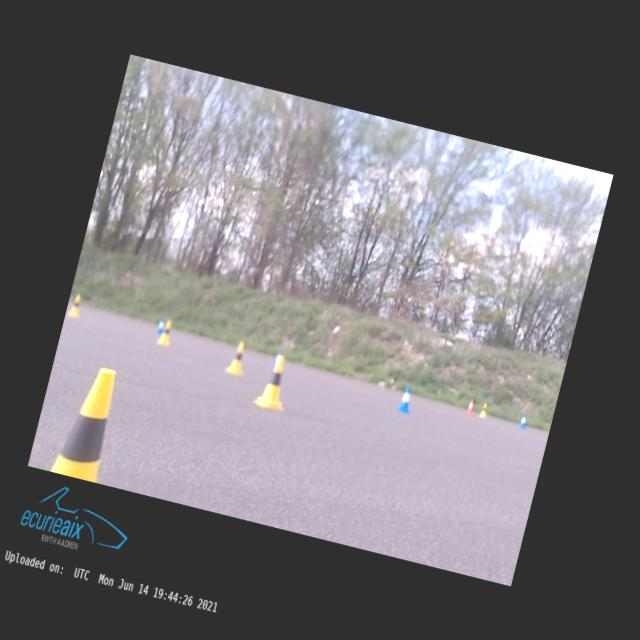blue_cone: (396, 385, 414, 412), (270, 348, 284, 370), (156, 317, 166, 333), (518, 413, 528, 428)
orange_cone: (466, 398, 476, 413)
yellow_cone: (51, 361, 122, 482), (252, 352, 296, 412), (224, 340, 248, 376), (156, 318, 174, 346), (68, 292, 83, 317), (478, 401, 489, 418)
